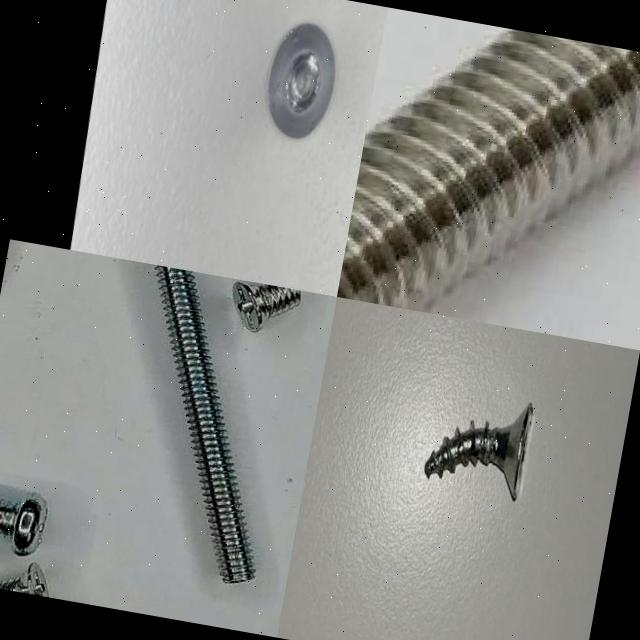Screw: (336, 27, 640, 314), (156, 265, 255, 584), (424, 403, 533, 500), (268, 23, 335, 137), (233, 281, 302, 332), (0, 485, 47, 556), (0, 564, 49, 597)
